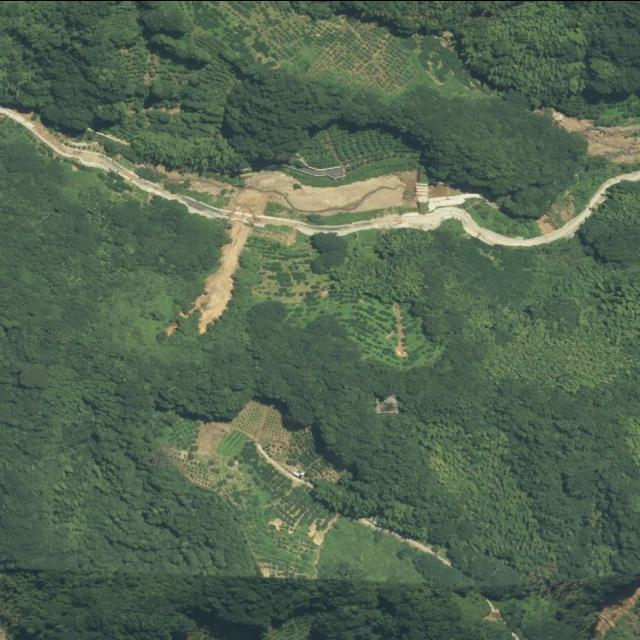landslide: (188, 220, 252, 333), (228, 188, 270, 212)
